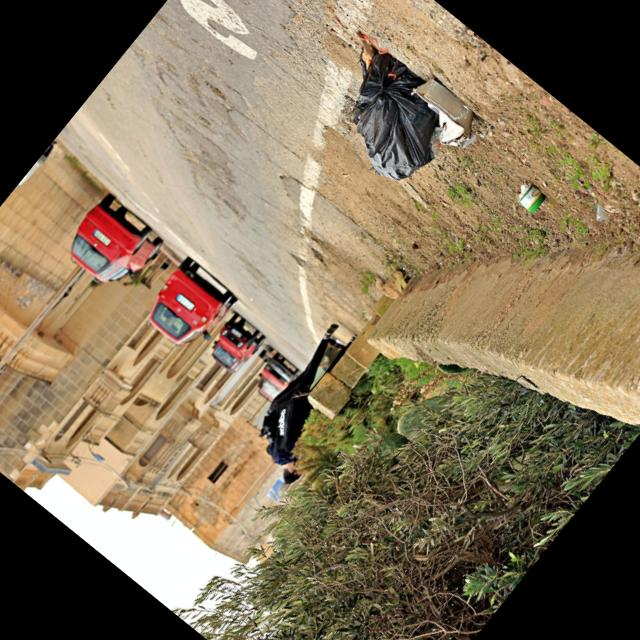Other litter: (411, 78, 476, 149), (518, 185, 546, 214), (595, 205, 609, 222)
Plastic bag - wrapper: (347, 48, 437, 180)
